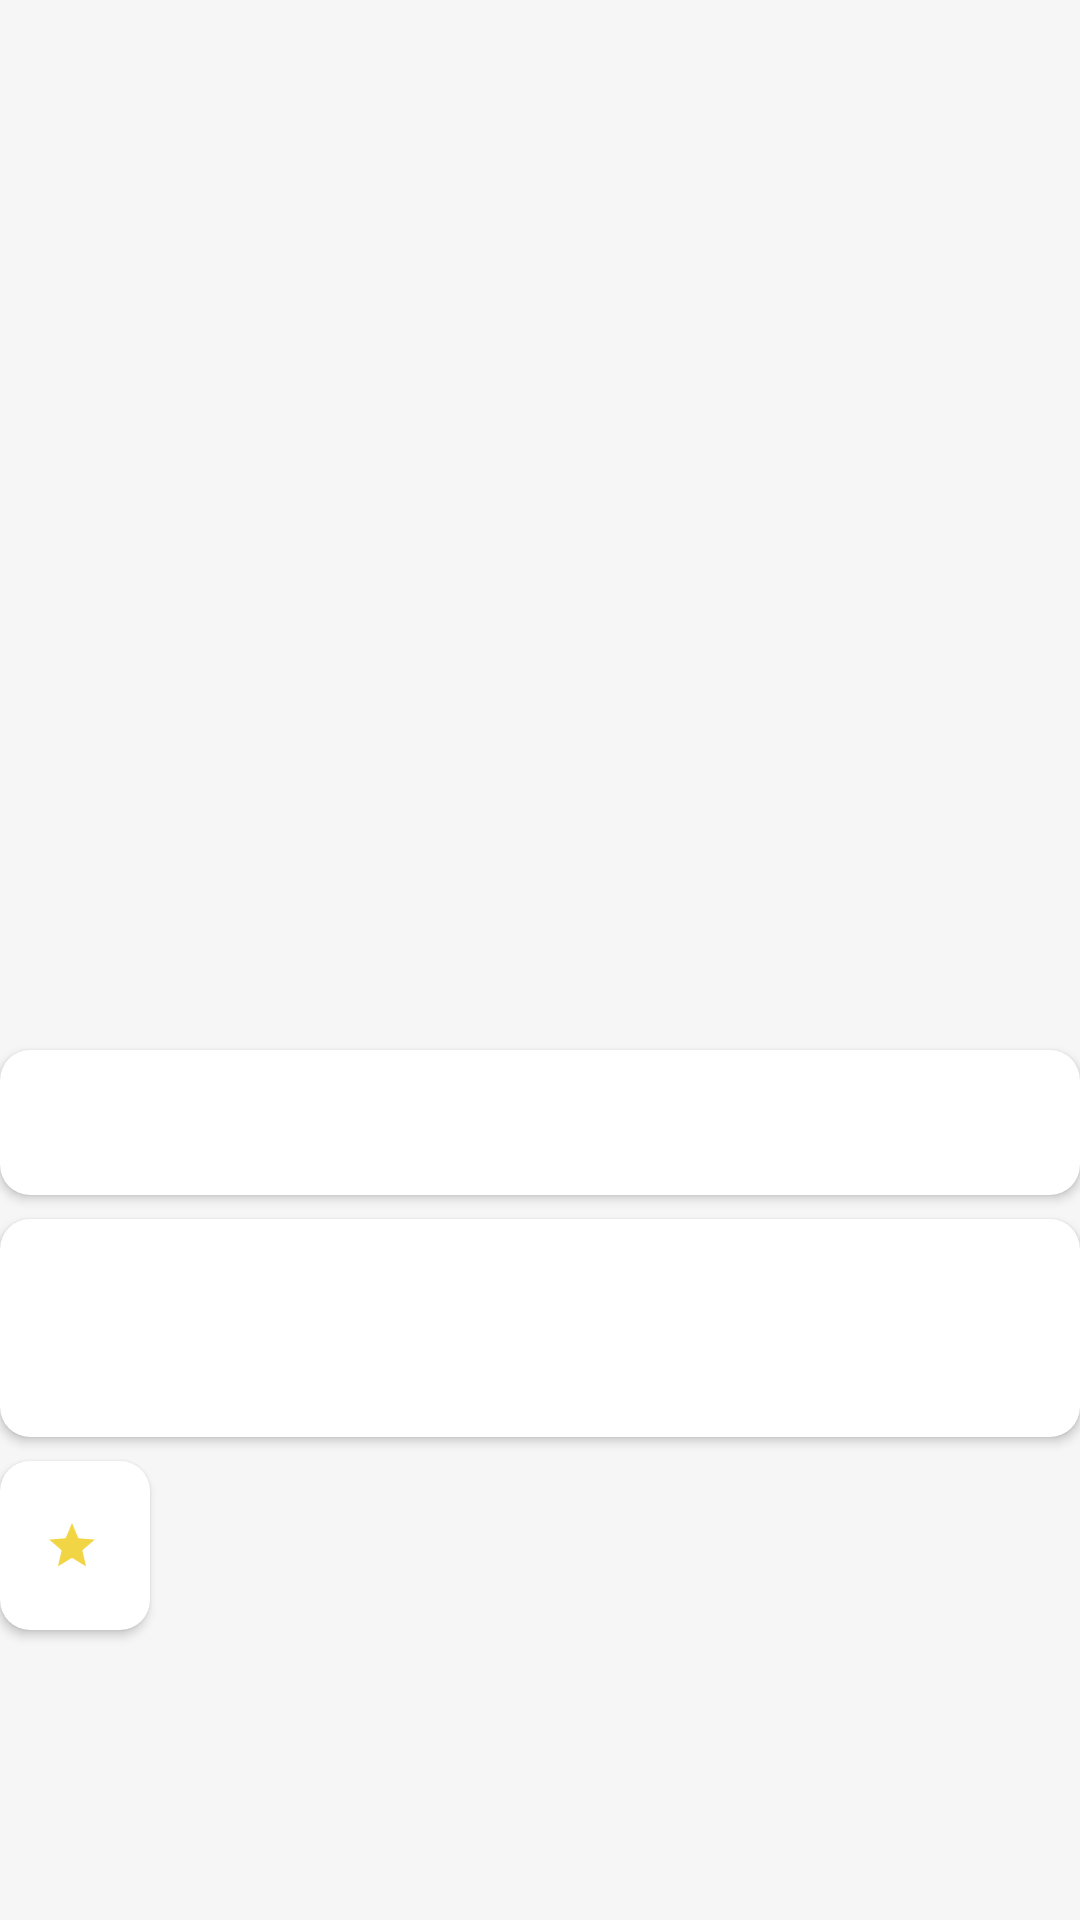

Where to tap for icons on this 1080×1920 app screen, as (x,y):
star: (72,1544)
